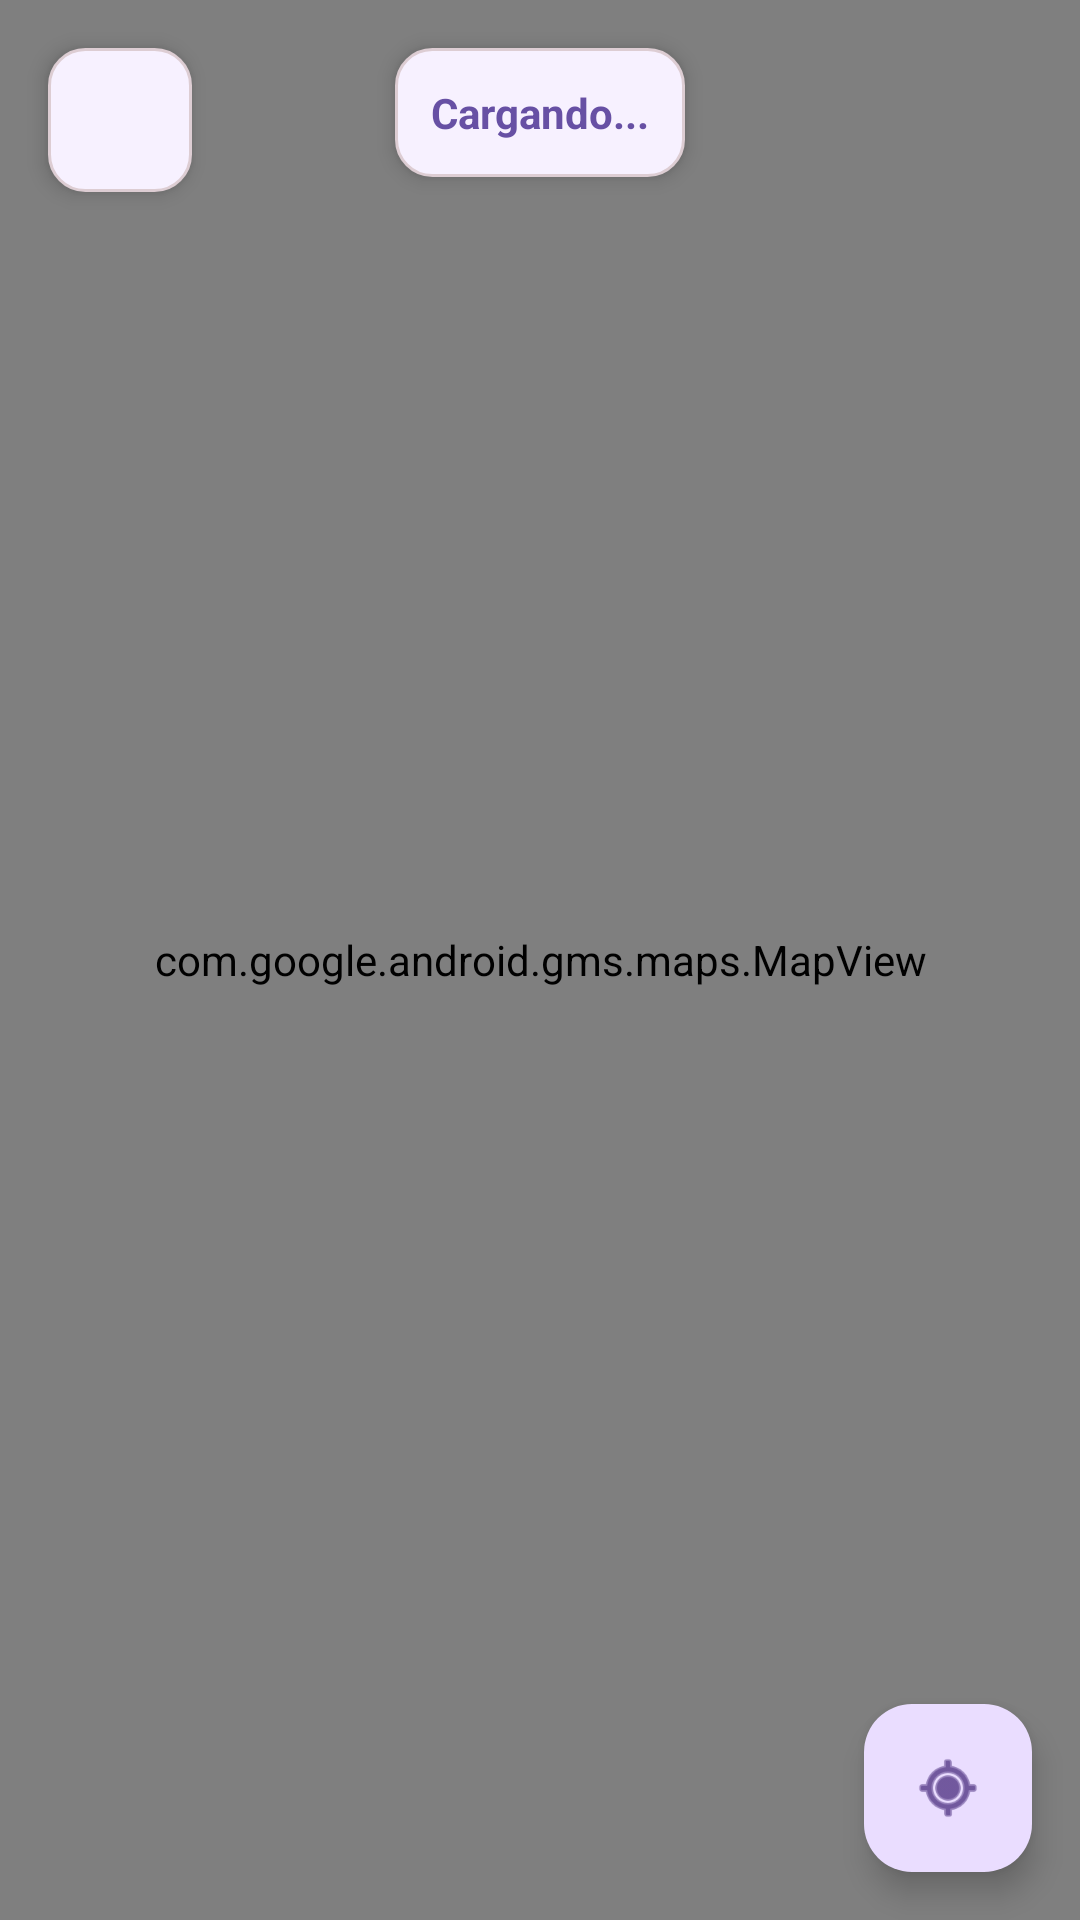

Icon bounding boxes for this 1080×1920 phone screenshot, format (x1, y1, x2, y2):
Centrar mapa: (864, 1704, 1032, 1872)
